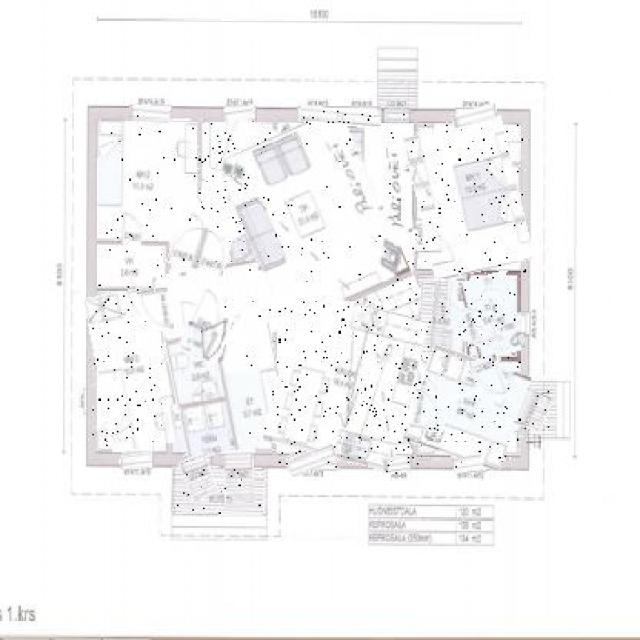door: (183, 290, 237, 362), (169, 224, 229, 274), (408, 389, 448, 431), (226, 450, 254, 508), (472, 354, 506, 401), (138, 288, 172, 332), (181, 454, 214, 498), (463, 303, 497, 345), (517, 391, 551, 431), (412, 222, 442, 262), (120, 212, 145, 243)
window: (298, 108, 380, 126), (288, 448, 338, 474), (452, 106, 497, 126), (131, 105, 171, 123), (455, 454, 483, 474), (383, 455, 409, 474), (120, 454, 152, 469), (223, 106, 254, 120), (384, 109, 408, 122)
zone: (246, 115, 443, 457), (272, 297, 420, 465), (162, 263, 283, 454), (411, 120, 526, 275), (98, 120, 197, 283), (190, 117, 284, 271), (92, 289, 176, 449), (410, 352, 524, 465), (463, 274, 520, 357), (172, 468, 265, 514), (417, 280, 469, 354), (166, 332, 220, 400), (99, 249, 166, 288), (171, 400, 218, 449)
